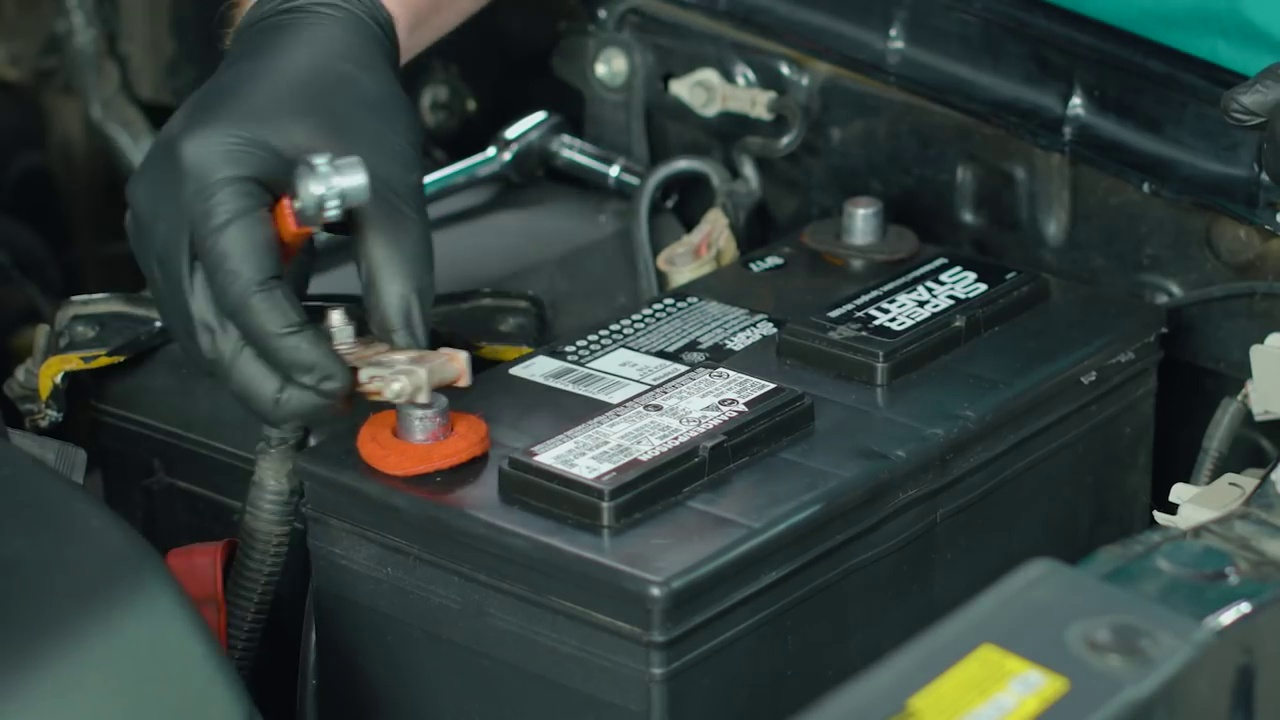battery: (280, 187, 1170, 585)
neg_disconnected: (788, 174, 927, 281)
pos_touched: (165, 190, 507, 502)
